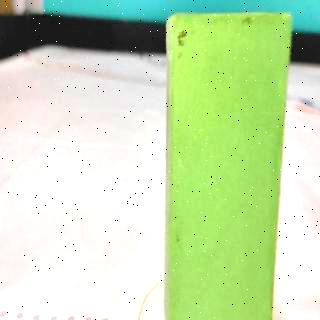greenbox: (166, 12, 292, 320)
